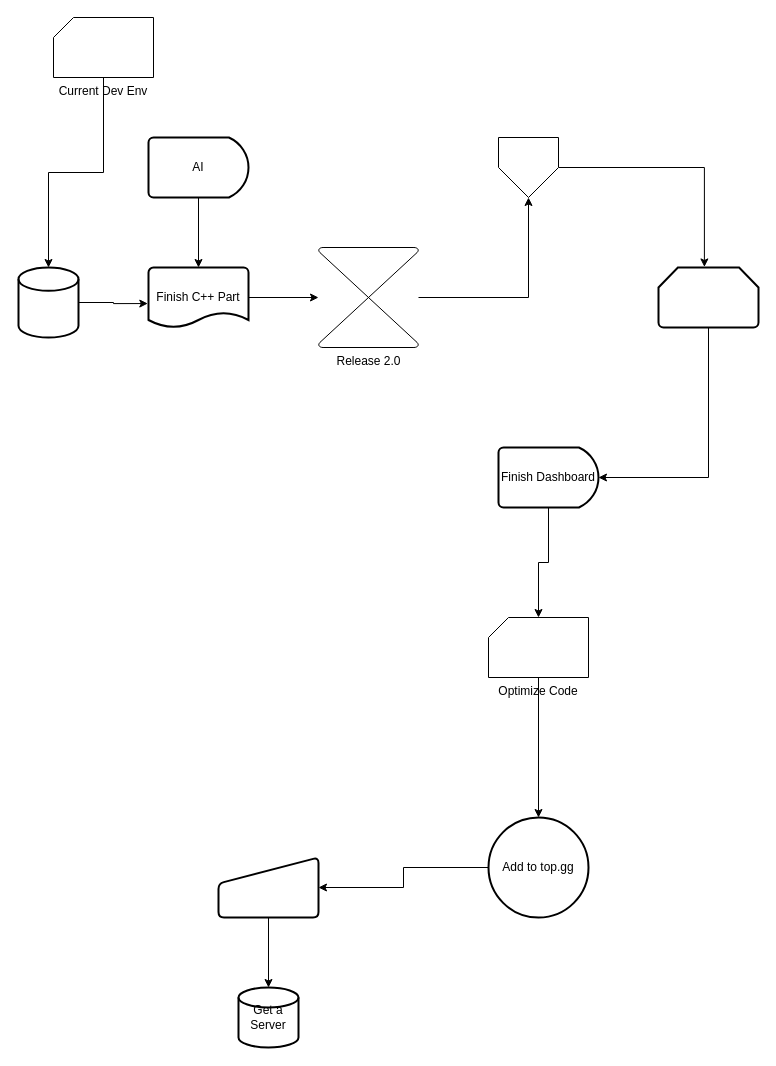
Some shapes in this 776 by 1066 pixel diagram are drawn without their labels. The box of each missing label's shape, as (x1, y1, x2, y2) in pixels:
Add Leveling System: (657, 266, 759, 328)
Add Voice Commands: (498, 136, 558, 198)
Create MongoDB: (17, 266, 79, 338)
Make Discord Server: (217, 856, 319, 918)
